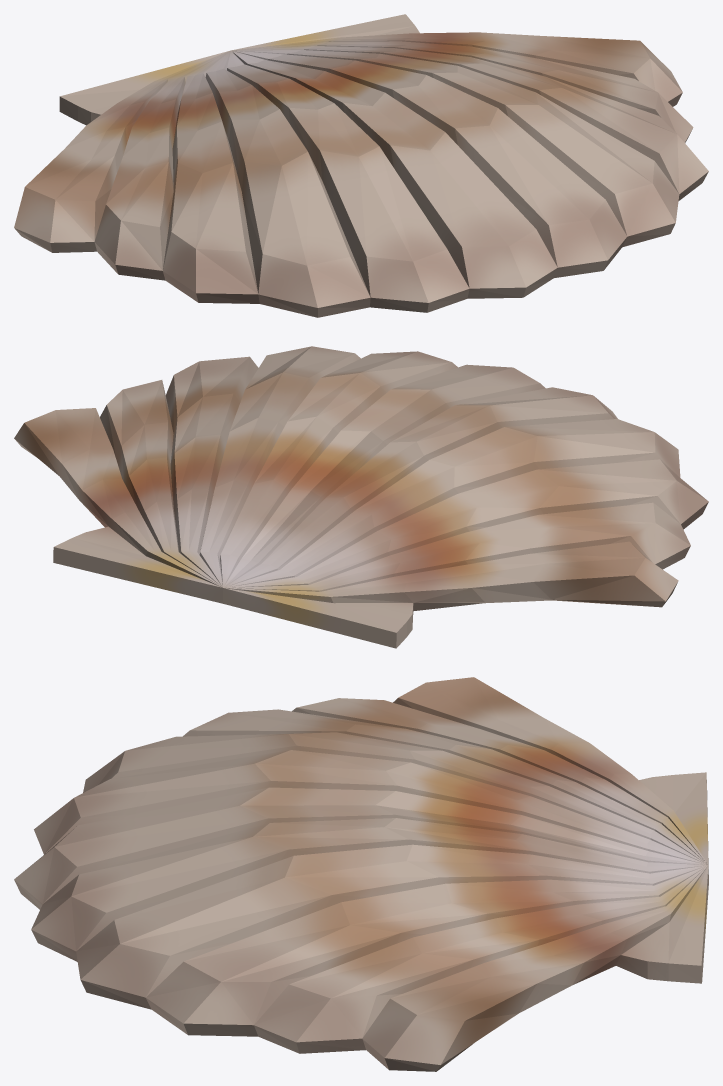
File: seaShell2.obj
The picture shows the model from 3 angles, top to bottom: view 1: azimuth 30°, elevation 25°; view 2: azimuth 150°, elevation 25°; view 3: azimuth 270°, elevation 25°; orthographic projection. The views are drawn at different scales.
Bounding box in the file's own units: 2.98 × 0.3656 × 2.38.
1 material, 1 textured.
